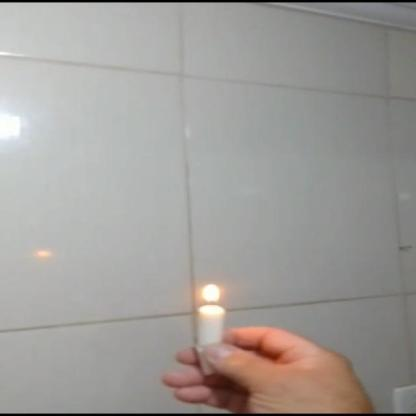fire: (199, 279, 223, 305)
